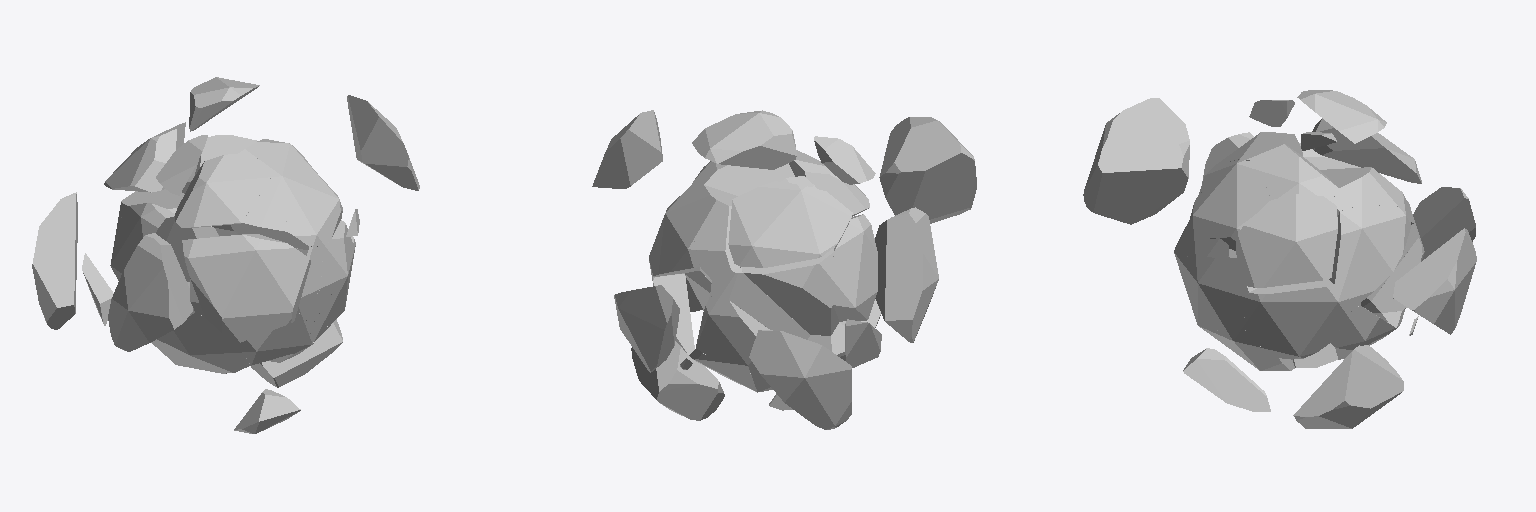
File: Kreillo.obj
3 renders of one model, left to right at view 1: azimuth 30°, elevation 25°; view 2: azimuth 150°, elevation 25°; view 3: azimuth 270°, elevation 25°, orthographic.
Visible parts, largest first — view 1: Icosphere_cell.029_Icosphere_cell.028; view 2: Icosphere_cell.029_Icosphere_cell.028; view 3: Icosphere_cell.029_Icosphere_cell.028.
Boxes of the visible parts, x1=… form: Icosphere_cell.029_Icosphere_cell.028: x1=32, y1=77, x2=419, y2=433; Icosphere_cell.029_Icosphere_cell.028: x1=592, y1=110, x2=976, y2=429; Icosphere_cell.029_Icosphere_cell.028: x1=1083, y1=90, x2=1476, y2=428.
Size of the model in its own units: 239 by 235 by 265.